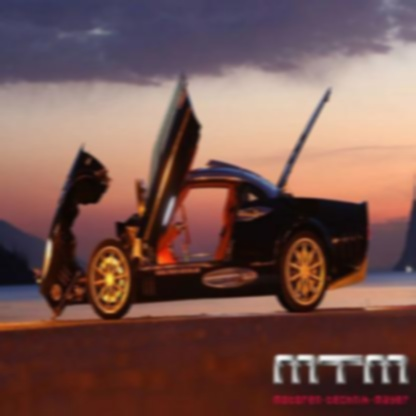Vehicle: (40, 73, 372, 323)
